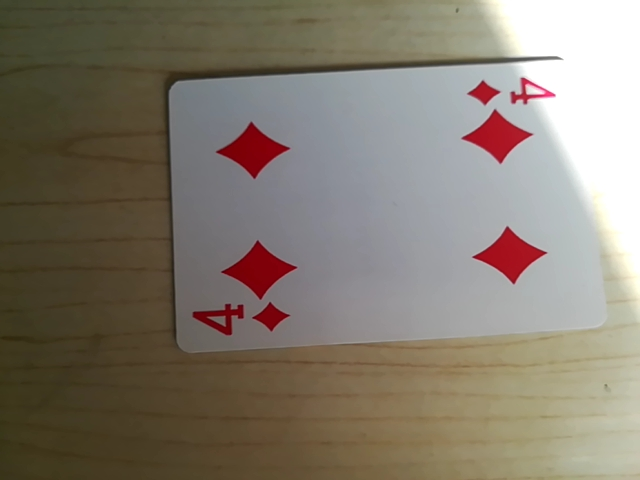fk 4: (187, 296, 288, 347), (467, 67, 562, 112)
